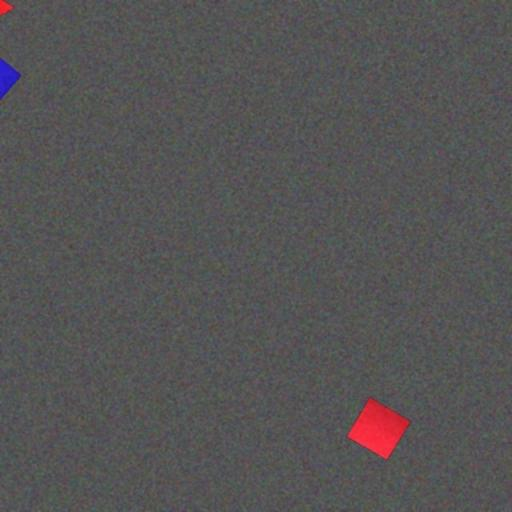RED_SQUARE: (346, 397, 412, 460)
